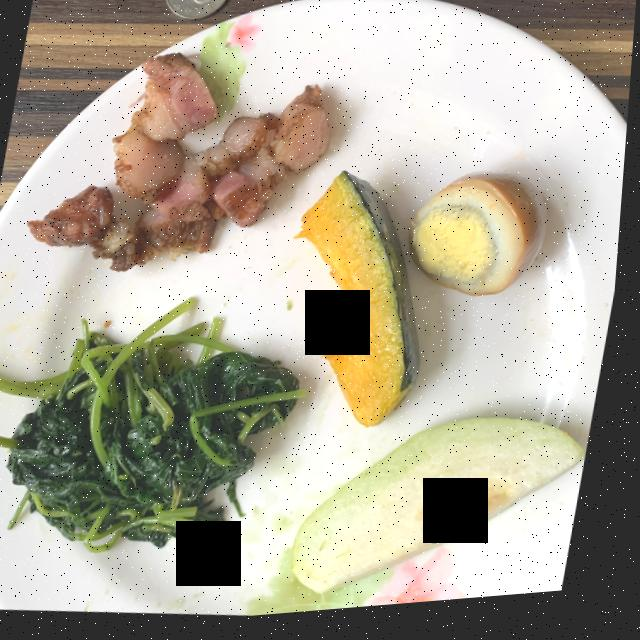coin: (164, 0, 227, 22)
grilled pork: (31, 56, 331, 273)
guava -sliced-: (300, 426, 591, 599)
pumpkin: (299, 177, 425, 433)
soy egg: (412, 180, 550, 304)
sweet potato leaves: (0, 301, 310, 555)
